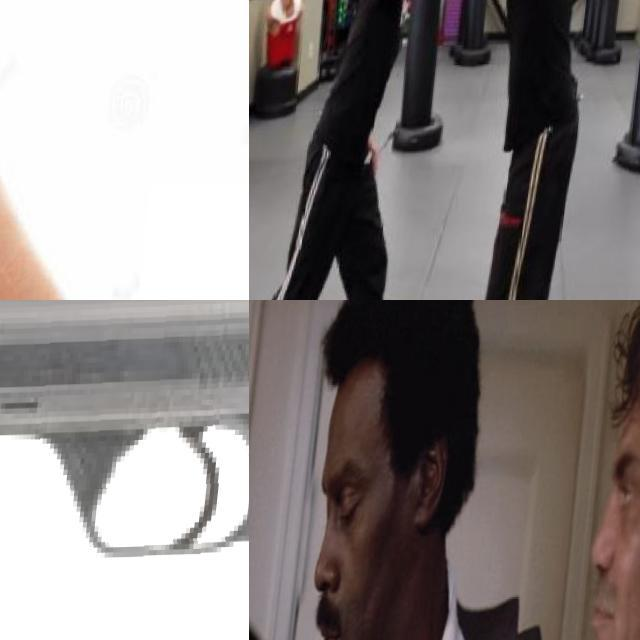-: (422, 0, 499, 34)
gun-knife-thesis - v11 Yolov5 augmented: (0, 300, 249, 640)
